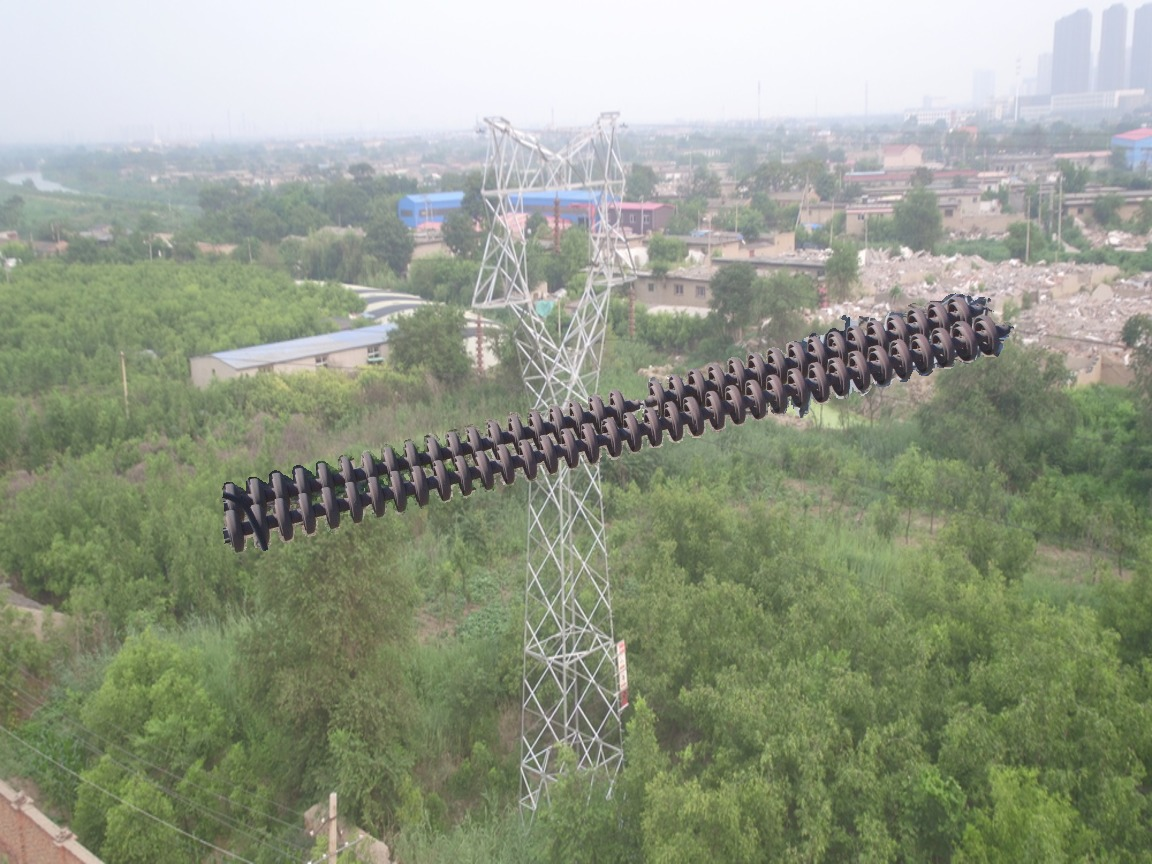defect: (605, 374, 667, 418)
